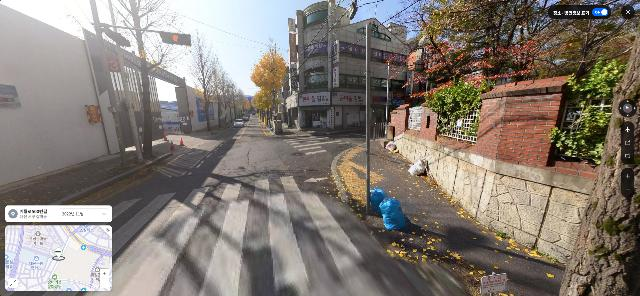ginkgo: (250, 51, 289, 132), (252, 88, 277, 127)
other: (363, 0, 640, 167), (557, 17, 640, 296), (58, 0, 202, 159), (188, 27, 224, 135), (207, 53, 232, 131), (215, 63, 237, 129)
